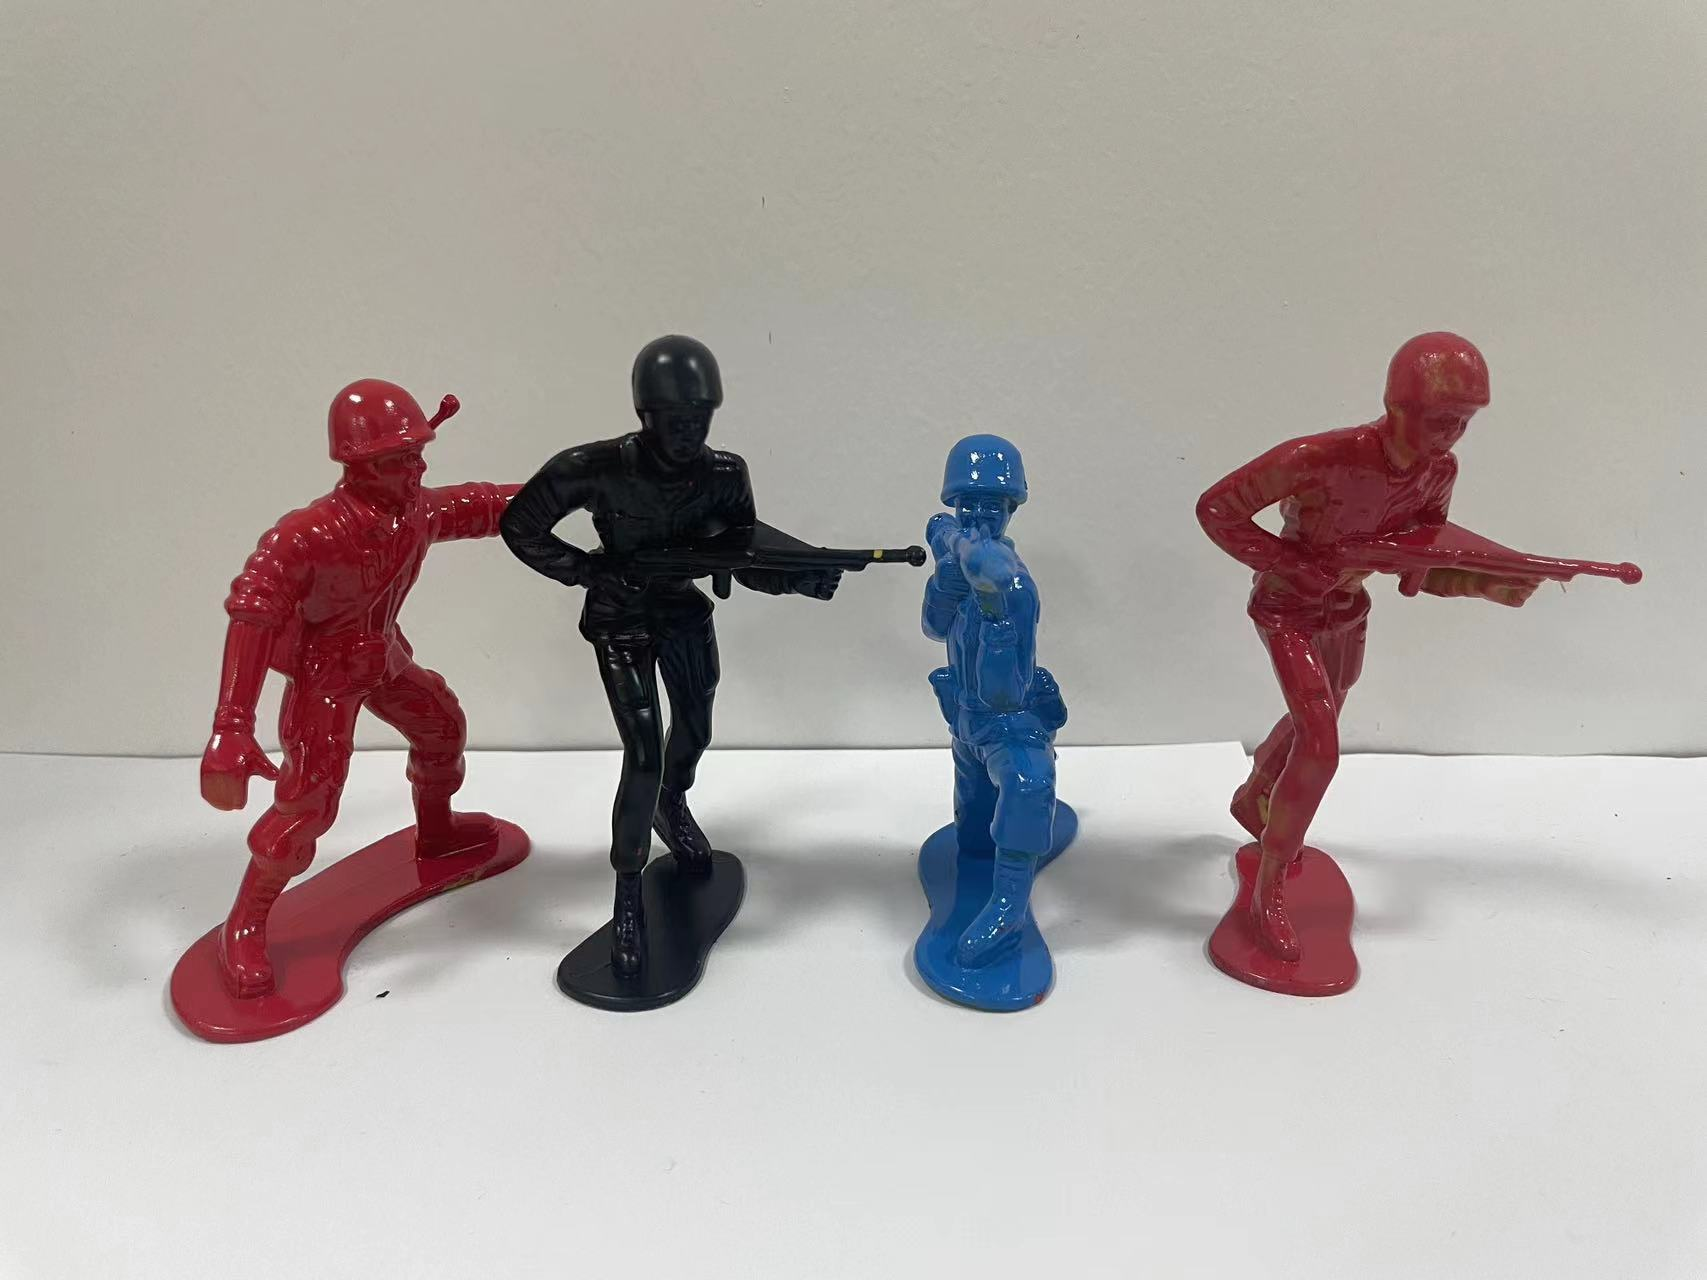black: (513, 274, 874, 1086)
blue: (866, 409, 1122, 1062)
red: (1176, 307, 1663, 1074), (181, 313, 511, 1065)
